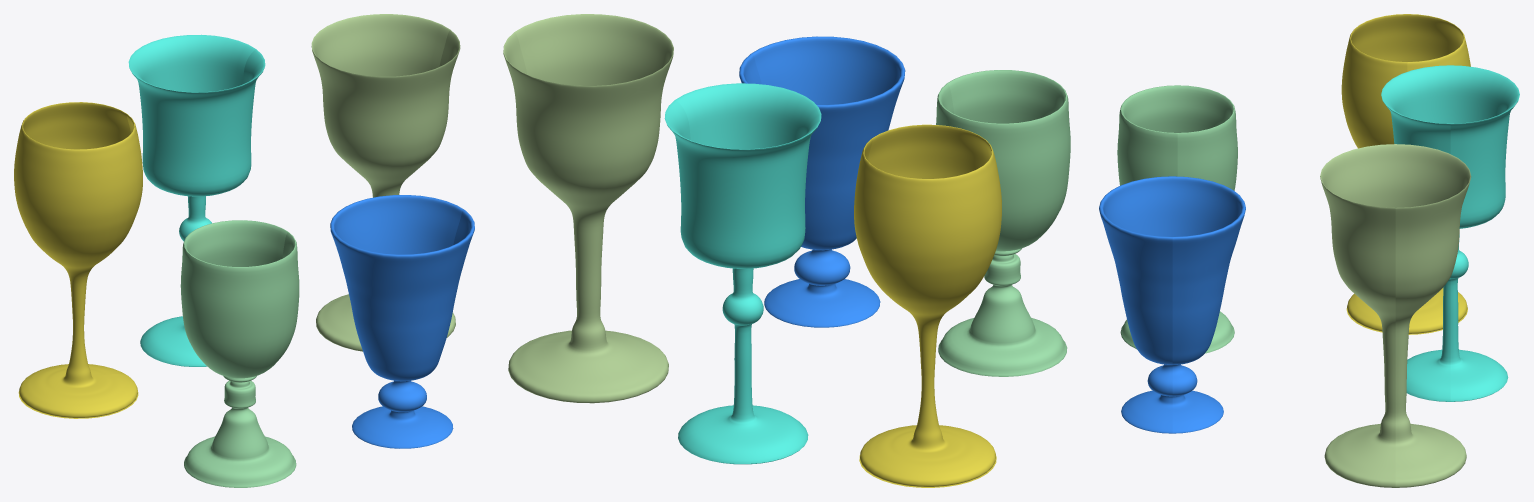
3 renders of one model, left to right at view 1: azimuth 30°, elevation 25°; view 2: azimuth 150°, elevation 25°; view 3: azimuth 270°, elevation 25°, orthographic. The views are drawn at different scales.
Parts seen in each view (by area): view 1: split_parent_2, split_parent_1, split_parent_0, split_parent_3, split_parent_4; view 2: split_parent_3, split_parent_4, split_parent_2, split_parent_0, split_parent_1; view 3: split_parent_3, split_parent_1, split_parent_4, split_parent_0, split_parent_2.
Part boxes in pixels (x1,y1,x2,y2): split_parent_2: [14, 102, 142, 418]; split_parent_1: [330, 195, 474, 448]; split_parent_0: [180, 220, 299, 487]; split_parent_3: [311, 14, 460, 351]; split_parent_4: [128, 34, 265, 366]; split_parent_3: [503, 14, 673, 403]; split_parent_4: [664, 83, 821, 464]; split_parent_2: [854, 124, 1001, 487]; split_parent_0: [936, 70, 1070, 376]; split_parent_1: [739, 36, 905, 327]; split_parent_3: [1320, 144, 1471, 487]; split_parent_1: [1099, 176, 1245, 433]; split_parent_4: [1381, 65, 1519, 401]; split_parent_0: [1117, 85, 1237, 353]; split_parent_2: [1341, 14, 1470, 334].
Size of the model in its own units: 1 by 0.6346 by 0.8522.
